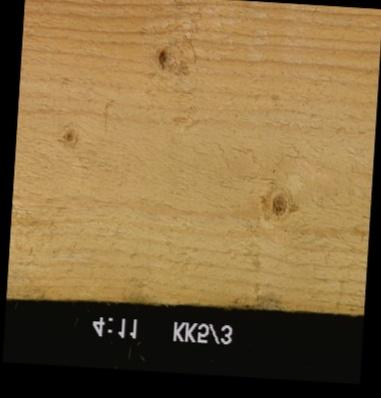small_knot: (58, 128, 77, 148)
sound_knot: (258, 186, 297, 220)
split: (319, 270, 364, 314)
